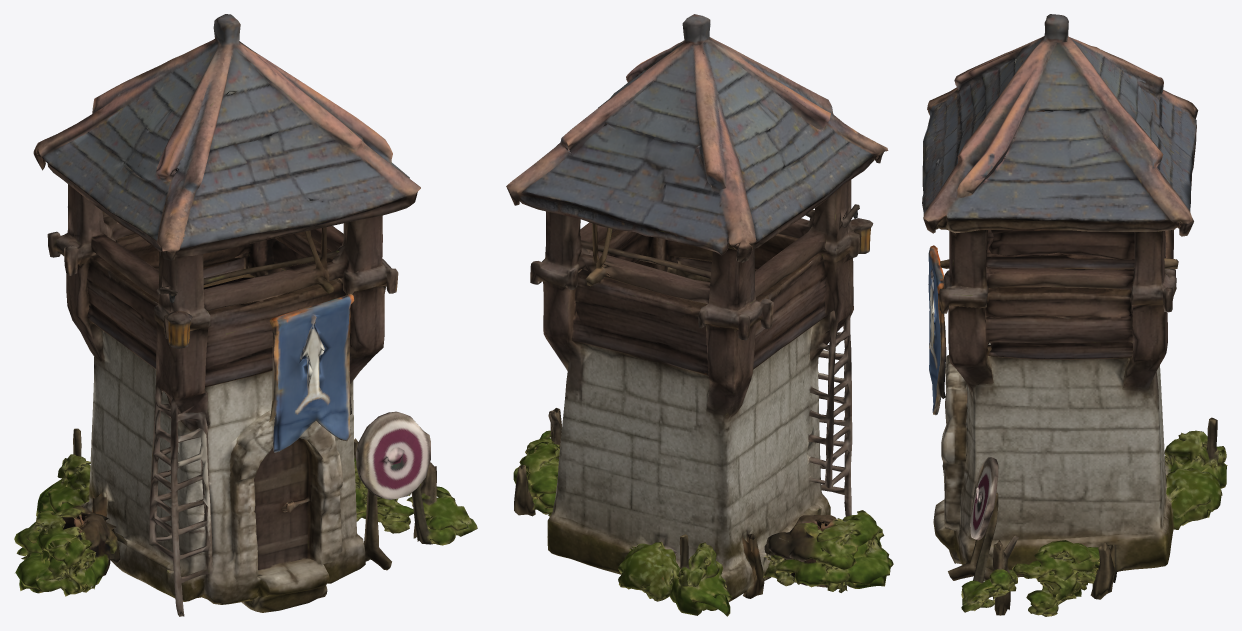
File: arrow_tower.glb
3 views of the same model, side by side, from view 1: azimuth 30°, elevation 25°; view 2: azimuth 150°, elevation 25°; view 3: azimuth 270°, elevation 25° (orthographic). The views are drawn at different scales.
Parts seen in each view (by area): view 1: arrow_tower_s7_fit; view 2: arrow_tower_s7_fit; view 3: arrow_tower_s7_fit.
Boxes of the visible parts, x1,y1,x2,y2 form: arrow_tower_s7_fit: (14,14,477,616); arrow_tower_s7_fit: (506,14,893,616); arrow_tower_s7_fit: (922,14,1227,616).
Bounding box in the file's own units: 3.87 × 5.05 × 2.66.
1 material, 1 textured.
